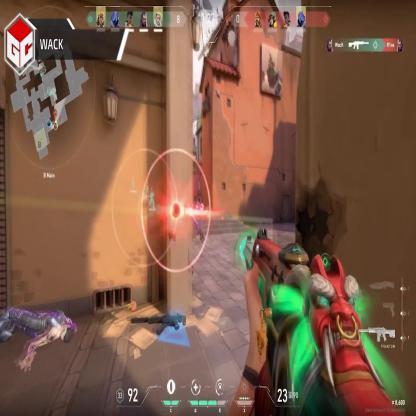enemy: (192, 194, 203, 241)
enemy_head: (194, 195, 202, 205)
